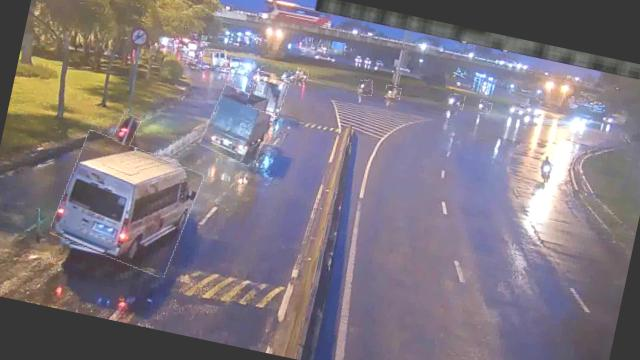Bike: (113, 111, 140, 146), (536, 154, 556, 184), (356, 78, 374, 97), (448, 93, 466, 110), (281, 64, 298, 82), (384, 84, 402, 100), (294, 67, 310, 83), (478, 100, 492, 112)
Bus: (50, 132, 204, 278), (199, 46, 227, 70)
Truck: (201, 84, 278, 168), (247, 71, 289, 116)
